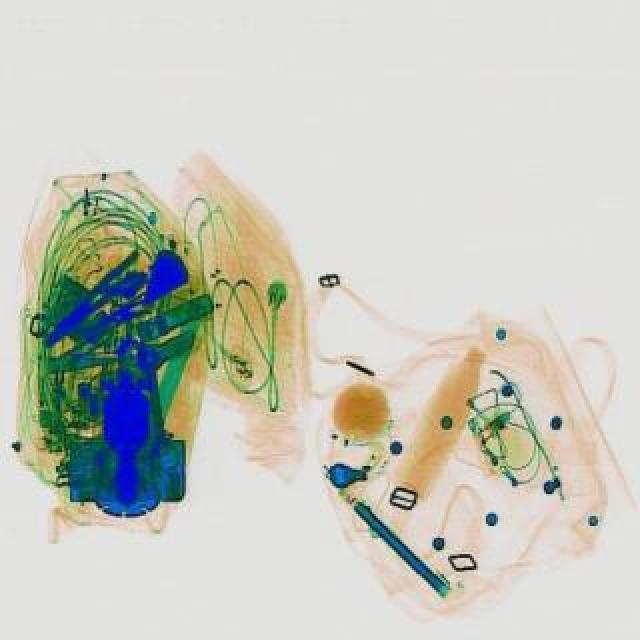wrench: (32, 244, 152, 352)
